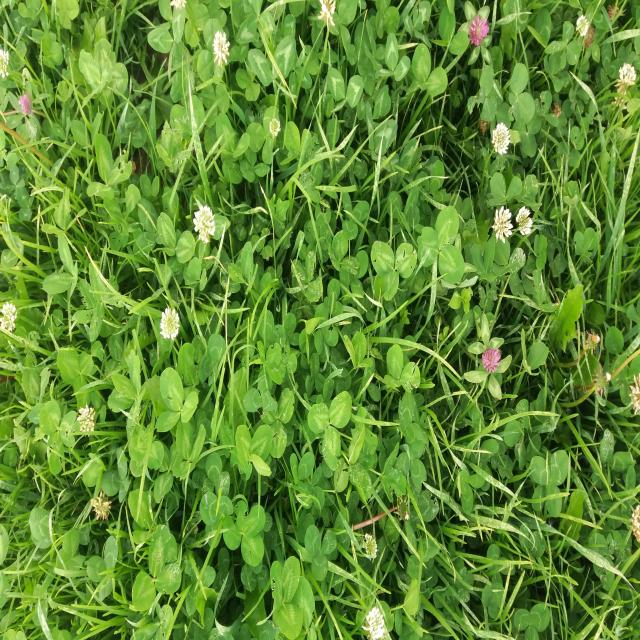Four Leaf Clover: (222, 500, 266, 567)
